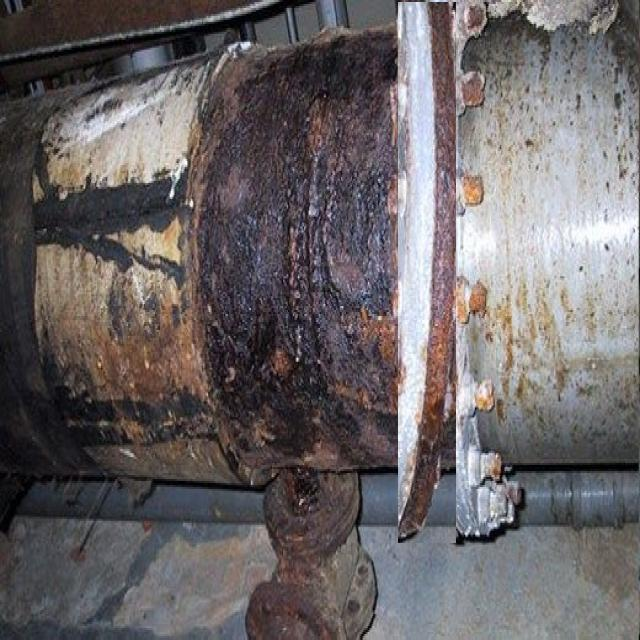Corrosion: (191, 31, 397, 484), (399, 1, 457, 538), (246, 470, 358, 640), (34, 179, 181, 272), (132, 247, 184, 286), (34, 144, 67, 200), (462, 70, 487, 106), (464, 0, 488, 36), (476, 379, 496, 412), (464, 175, 485, 206), (470, 282, 488, 316)
